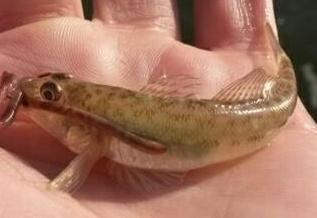Goby: (4, 68, 315, 188)
